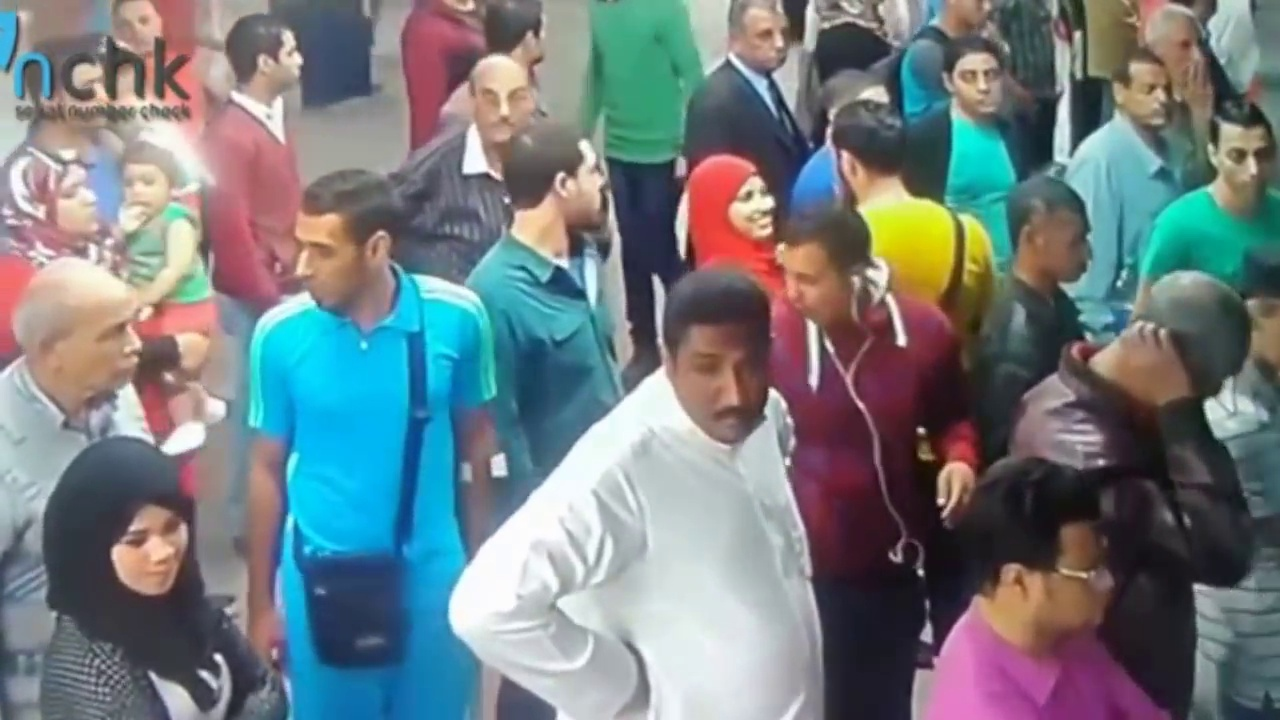face: (675, 320, 773, 446), (1027, 528, 1121, 634), (103, 507, 195, 597), (287, 218, 356, 318), (75, 308, 142, 396), (1211, 136, 1280, 199), (721, 171, 786, 236), (465, 69, 528, 136), (46, 174, 107, 236), (786, 255, 842, 322), (1045, 215, 1096, 285), (570, 148, 616, 220), (953, 63, 1006, 117), (744, 14, 790, 75), (1123, 67, 1167, 127), (260, 35, 306, 88), (119, 161, 163, 215)
